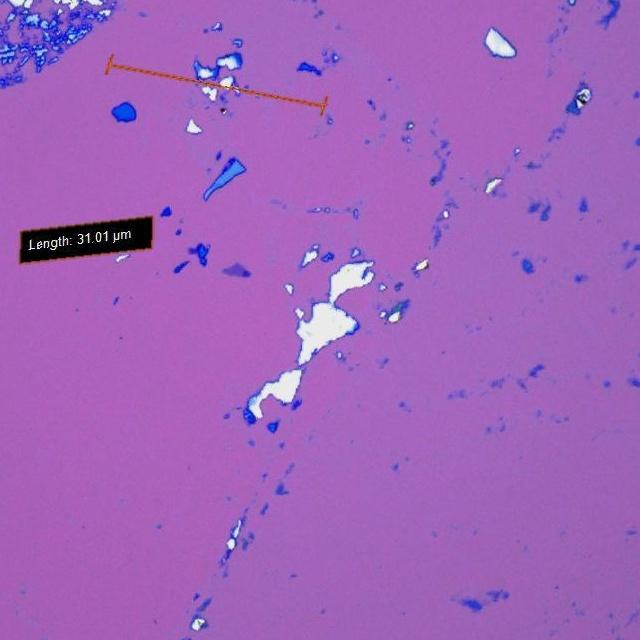monolayer-eWW4: (220, 260, 243, 277)
